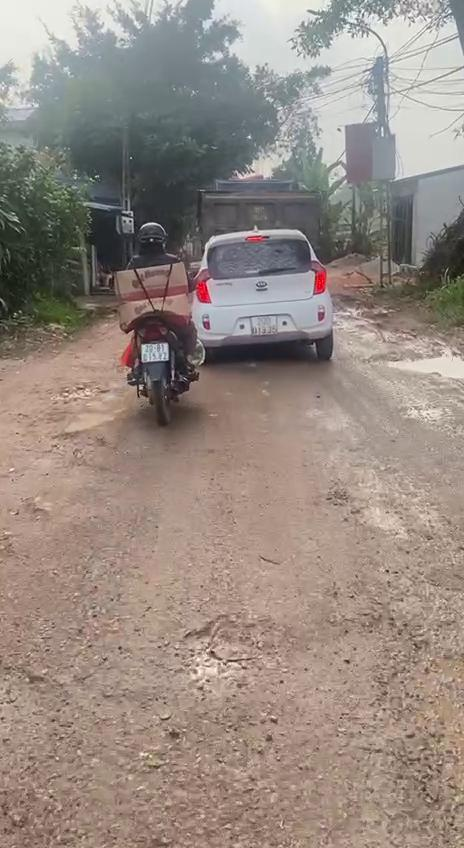pothole: (379, 643, 464, 837), (182, 616, 260, 694), (36, 421, 111, 481), (367, 348, 464, 384), (50, 380, 119, 404)
